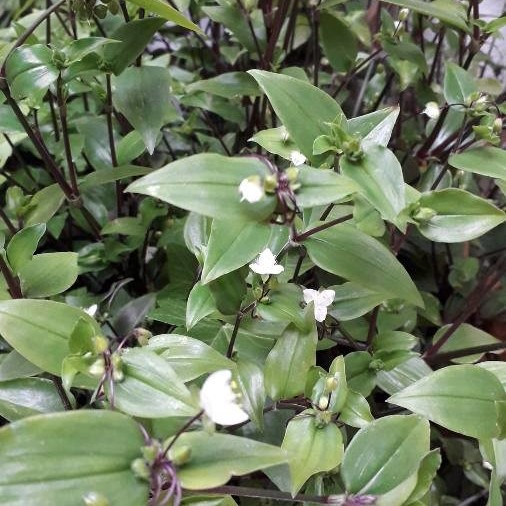obstacle: (49, 78, 431, 459)
